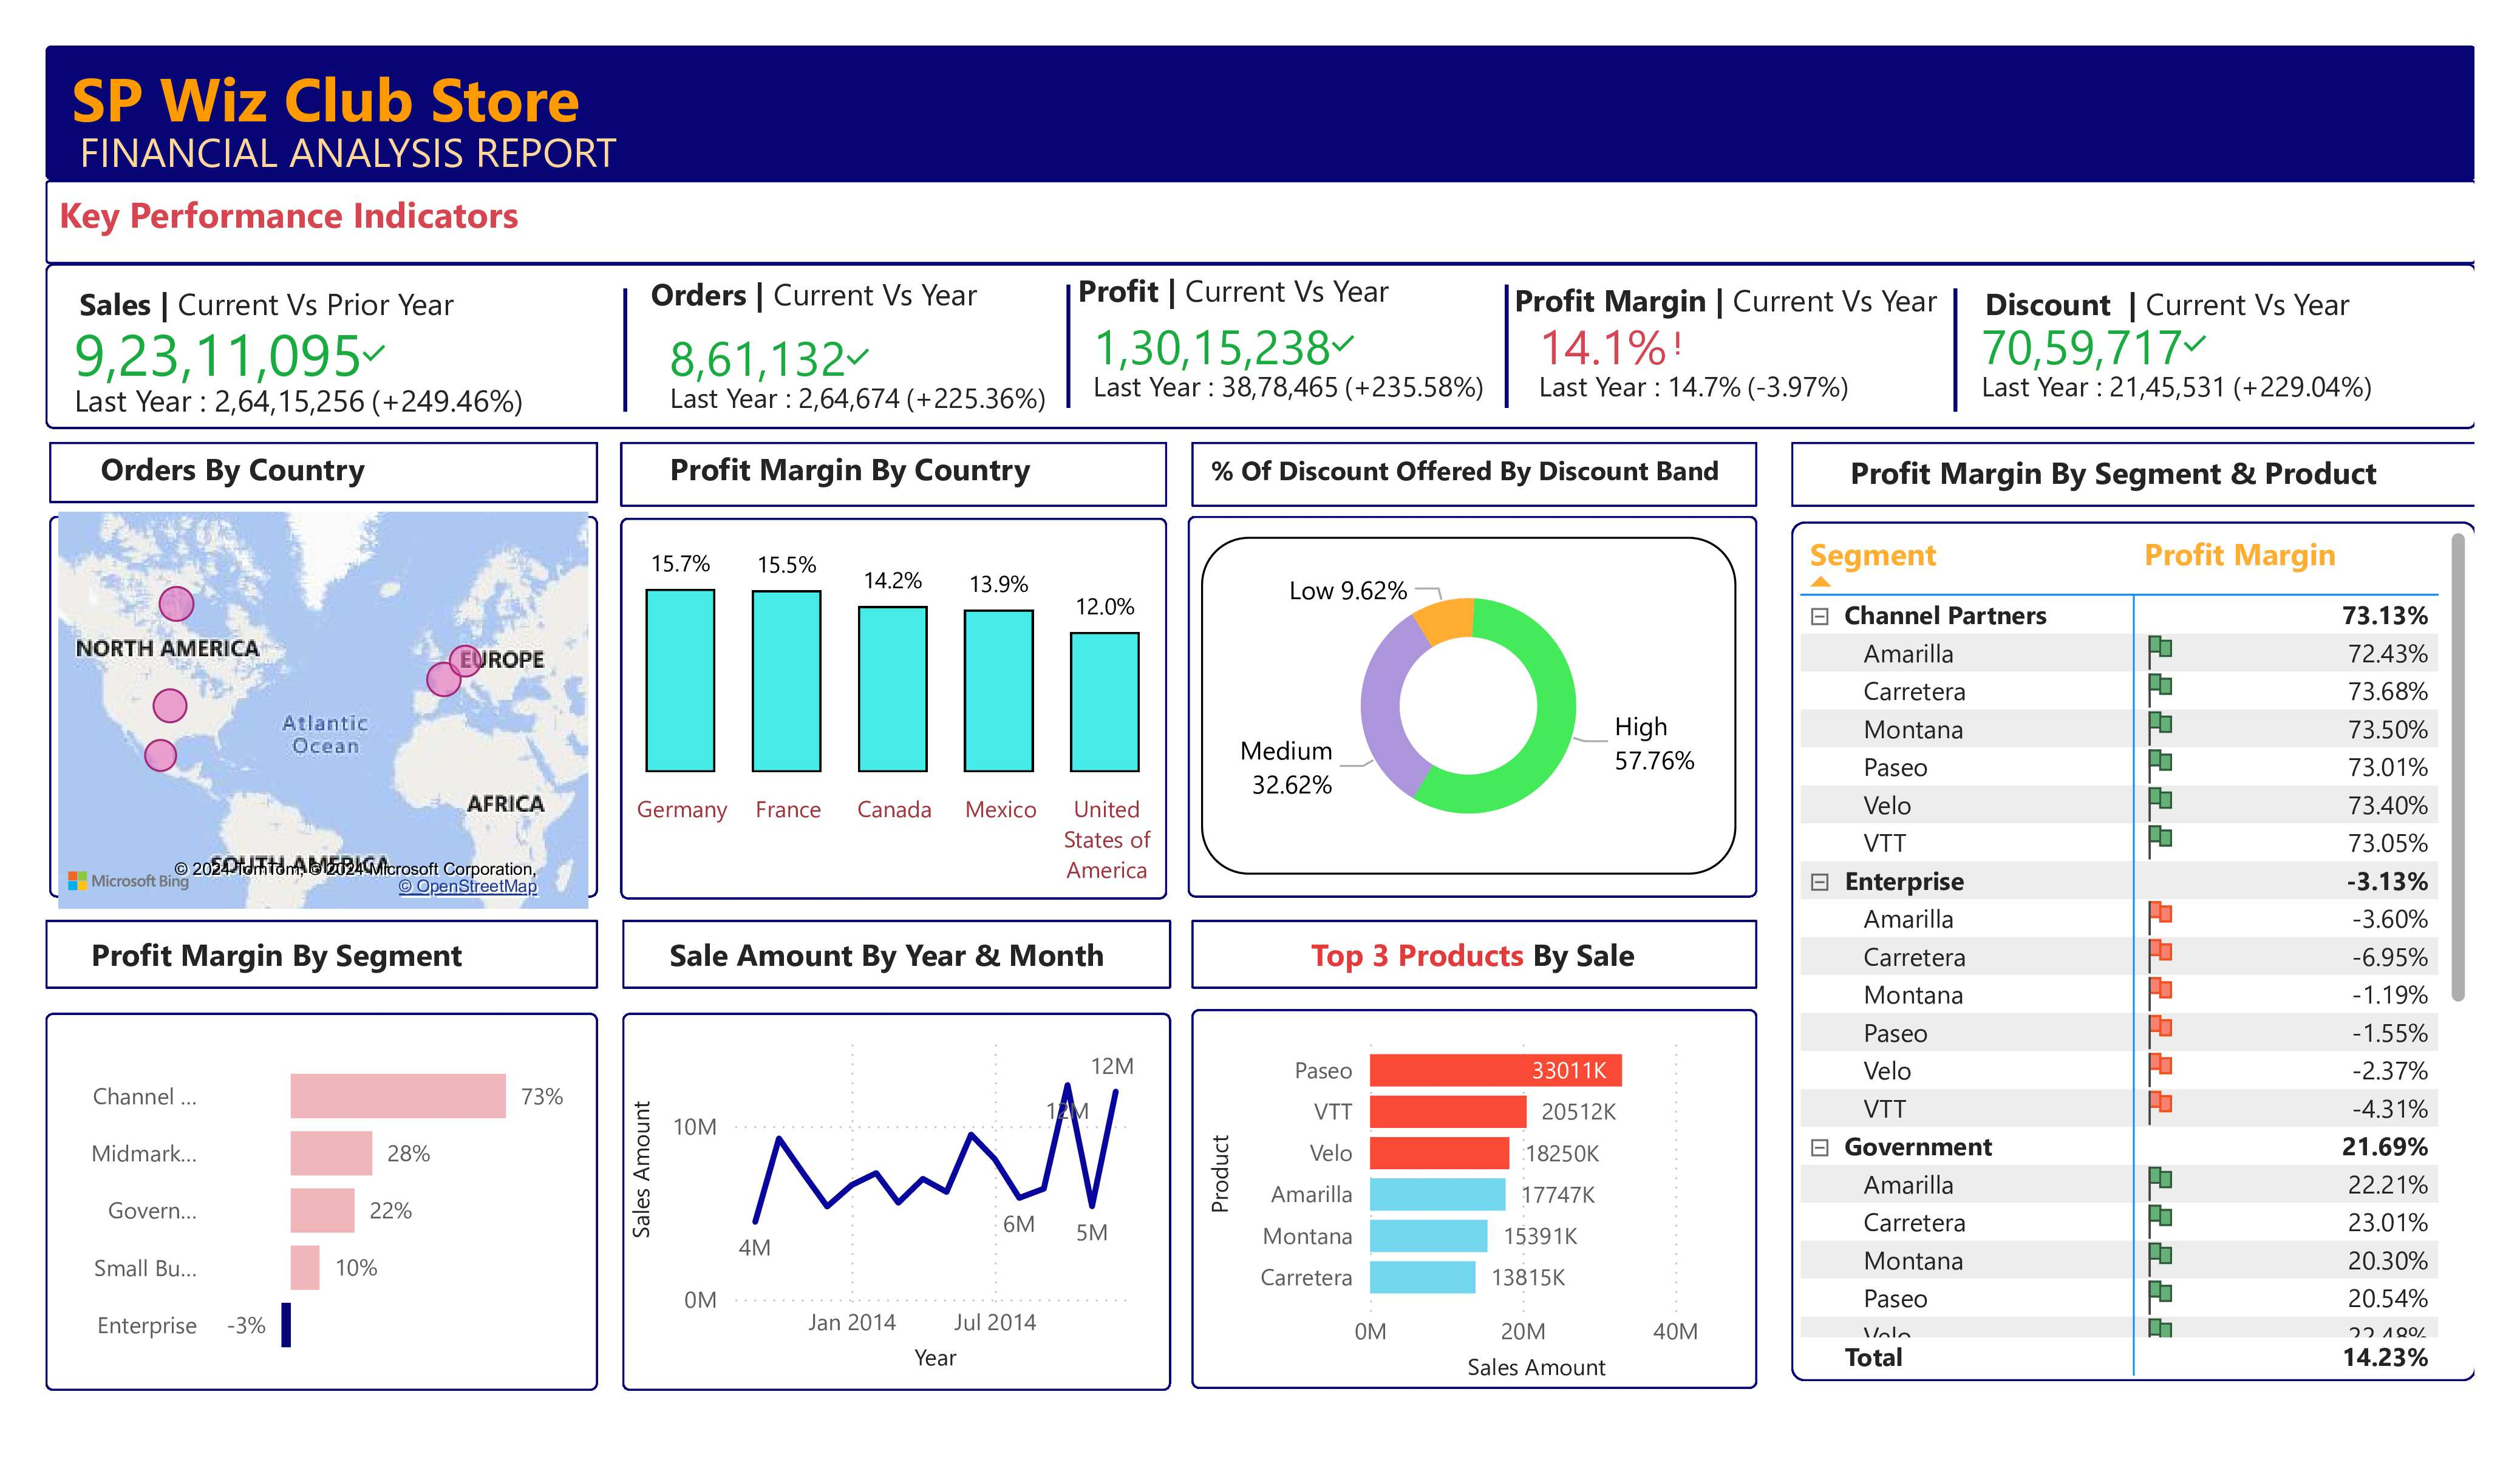

Layout of this report page (visuals, bound fields, positions):
{"tool":"powerbi","page":{"name":"SP Financial Analysis Report","canvas":[1280,720],"ordinal":0},"visuals":[{"type":"shape","box":[919.7,251,361.1,453.4],"z":0},{"type":"actionButton","box":[0,0,100,40],"z":1000},{"type":"shape","box":[0,0,1280.8,71.2],"z":2000},{"type":"shape","box":[0,71.2,1280.8,43.7],"z":3000},{"type":"shape","box":[0,115,1280.8,87.4],"z":4000},{"type":"shape","box":[1.6,247.7,289.8,200.8],"z":5000},{"type":"shape","box":[1.6,208.9,289.8,32.4],"z":6000},{"type":"shape","box":[919.7,208.9,361.1,34],"z":7000},{"type":"shape","box":[0,510.1,291.5,199.2],"z":8000},{"type":"shape","box":[302.8,249.4,288.2,200.8],"z":9000},{"type":"shape","box":[602.4,247.7,299.6,200.8],"z":10000},{"type":"shape","box":[304.4,510.1,288.2,199.2],"z":11000},{"type":"shape","box":[604,508.4,297.9,199.2],"z":12000},{"type":"shape","box":[302.8,208.9,288.2,34],"z":13000},{"type":"shape","box":[604,208.9,297.9,34],"z":14000},{"type":"shape","box":[0,461.5,291.5,35.6],"z":15000},{"type":"shape","box":[304.4,461.5,288.2,35.6],"z":16000},{"type":"shape","box":[604,461.5,297.9,35.6],"z":17000},{"type":"textbox","box":[0,0,380.5,53.4],"z":18000},{"type":"textbox","box":[13,35.6,315.7,48.6],"z":19000},{"type":"textbox","box":[1.6,71.2,289.8,48.6],"z":20000},{"type":"kpi","fields":{"Indicator":["Analysis.Sales Amount"],"TrendLine":["Data Table.Year"],"Goal":["Analysis.Sales Amount LY"]},"box":[1.6,137.6,273.6,69.6],"z":21000},{"type":"textbox","box":[13,119.8,215.4,34],"z":22000},{"type":"shape","box":[263.9,127.9,82.6,64.8],"z":23000},{"type":"kpi","fields":{"Indicator":["Analysis.Orders"],"TrendLine":["Data Table.Year"],"Goal":["Analysis.Orders LY"]},"box":[315.7,139.3,242.9,69.6],"z":24000},{"type":"kpi","fields":{"TrendLine":["Data Table.Year"],"Goal":["Analysis.Profit LY"],"Indicator":["Analysis.Profit"]},"box":[539.2,132.8,244.5,69.6],"z":25000},{"type":"kpi","fields":{"TrendLine":["Data Table.Year"],"Indicator":["Analysis.Profit Margin"],"Goal":["Analysis.Profit Margin LY"]},"box":[774,132.8,255.8,69.6],"z":26000},{"type":"kpi","fields":{"TrendLine":["Data Table.Year"],"Goal":["Analysis.Discount Offered LY"],"Indicator":["Analysis.Discount Offered"]},"box":[1007.2,132.8,255.8,69.6],"z":27000},{"type":"textbox","box":[314.1,115,225.1,38.9],"z":28000},{"type":"shape","box":[510.1,126.3,58.3,64.8],"z":29000},{"type":"shape","box":[728.7,126.3,82.6,64.8],"z":30000},{"type":"shape","box":[965.1,127.9,82.6,64.8],"z":31000},{"type":"textbox","box":[539.2,113.3,202.4,48.6],"z":32000},{"type":"textbox","box":[769.1,118.2,247.7,38.9],"z":33000},{"type":"textbox","box":[1016.9,119.8,263.9,48.6],"z":34000},{"type":"map","fields":{"Category":["financials.Country"],"Size":["Analysis.Orders"]},"box":[1.6,241.3,289.8,218.6],"z":35000},{"type":"textbox","box":[24.3,207.3,189.4,34],"z":36000},{"type":"columnChart","fields":{"Category":["financials.Country"],"Y":["Analysis.Profit Margin"]},"box":[278.5,247.7,327.1,202.4],"z":37000},{"type":"textbox","box":[323.8,207.3,234.8,35.6],"z":38000},{"type":"donutChart","fields":{"Category":["financials.Discount Band"],"Y":["Analysis.Discount Offered"]},"box":[608.8,259.1,281.7,178.1],"z":39000},{"type":"textbox","box":[608.8,208.9,293.1,42.1],"z":40000},{"type":"barChart","fields":{"Category":["financials.Segment"],"Y":["Analysis.Profit Margin"]},"box":[6.5,516.5,278.5,187.8],"z":41000},{"type":"lineChart","fields":{"Category":["Data Table.Date.Variation.Date Hierarchy.Year","Data Table.Date.Variation.Date Hierarchy.Month"],"Y":["Analysis.Sales Amount"]},"box":[304.4,510.1,286.6,194.3],"z":42000},{"type":"barChart","fields":{"Category":["financials.Product"],"Y":["Analysis.Sales Amount"]},"box":[608.8,510.1,281.7,199.2],"z":43000},{"type":"textbox","box":[662.3,463.1,204,35.6],"z":44000},{"type":"textbox","box":[323.8,463.1,267.2,35.6],"z":45000},{"type":"textbox","box":[19.4,463.1,244.5,34],"z":46000},{"type":"pivotTable","fields":{"Rows":["financials.Segment","financials.Product"],"Values":["Analysis.Profit Margin"]},"box":[919.7,251,361.1,208.9],"z":47000},{"type":"textbox","box":[945.6,208.9,304.4,43.7],"z":48000},{"type":"slicer","fields":{"Values":["financials.Month Name","financials.Segment"]},"box":[919.7,480.9,343.3,212.1],"z":49000}]}

Visuals, with their boxes on the page's 1280x720 design canvas (x1, y1, x2, y2). These are canvas units, not pixel positions in the 2520x1457 screenshot, which may show the page scaled, cropped or inside an application window:
shape: 920,251,1281,704
actionButton: 0,0,100,40
shape: 0,0,1281,71
shape: 0,71,1281,115
shape: 0,115,1281,202
shape: 2,248,291,448
shape: 2,209,291,241
shape: 920,209,1281,243
shape: 0,510,292,709
shape: 303,249,591,450
shape: 602,248,902,448
shape: 304,510,593,709
shape: 604,508,902,708
shape: 303,209,591,243
shape: 604,209,902,243
shape: 0,462,292,497
shape: 304,462,593,497
shape: 604,462,902,497
textbox: 0,0,380,53
textbox: 13,36,329,84
textbox: 2,71,291,120
kpi - Analysis.Sales Amount x Data Table.Year: 2,138,275,207
textbox: 13,120,228,154
shape: 264,128,346,193
kpi - Analysis.Orders x Data Table.Year: 316,139,559,209
kpi - Data Table.Year x Analysis.Profit LY: 539,133,784,202
kpi - Data Table.Year x Analysis.Profit Margin: 774,133,1030,202
kpi - Data Table.Year x Analysis.Discount Offered LY: 1007,133,1263,202
textbox: 314,115,539,154
shape: 510,126,568,191
shape: 729,126,811,191
shape: 965,128,1048,193
textbox: 539,113,742,162
textbox: 769,118,1017,157
textbox: 1017,120,1281,168
map - financials.Country x Analysis.Orders: 2,241,291,460
textbox: 24,207,214,241
columnChart - financials.Country x Analysis.Profit Margin: 278,248,606,450
textbox: 324,207,559,243
donutChart - financials.Discount Band x Analysis.Discount Offered: 609,259,890,437
textbox: 609,209,902,251
barChart - financials.Segment x Analysis.Profit Margin: 6,516,285,704
lineChart - Data Table.Date.Variation.Date Hierarchy.Year x Data Table.Date.Variation.Date Hierarchy.Month: 304,510,591,704
barChart - financials.Product x Analysis.Sales Amount: 609,510,890,709
textbox: 662,463,866,499
textbox: 324,463,591,499
textbox: 19,463,264,497
pivotTable - financials.Segment x financials.Product: 920,251,1281,460
textbox: 946,209,1250,253
slicer - financials.Month Name x financials.Segment: 920,481,1263,693
